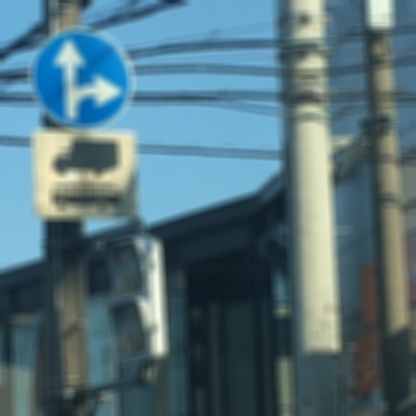Direction_sign: (33, 29, 138, 123)
